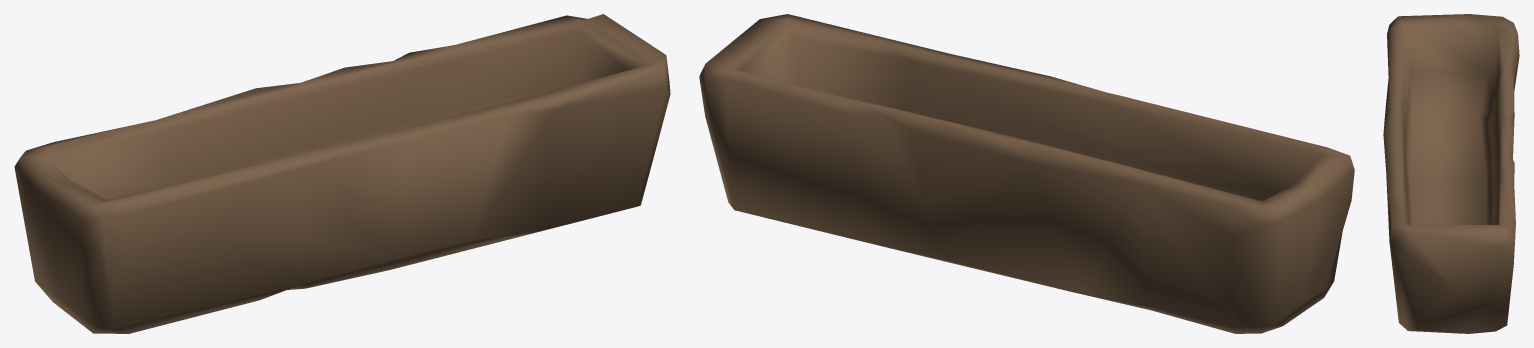
The model's file is rpgpp_lt_trough_01 -col.glb.
3 renders of one model, left to right at view 1: azimuth 30°, elevation 25°; view 2: azimuth 150°, elevation 25°; view 3: azimuth 270°, elevation 25°, orthographic. The views are drawn at different scales.
Visible parts, largest first — view 1: rpgpp_lt_trough_01 -col; view 2: rpgpp_lt_trough_01 -col; view 3: rpgpp_lt_trough_01 -col.
Part boxes in pixels (<box>): rpgpp_lt_trough_01 -col: <box>14,14,670,333</box>; rpgpp_lt_trough_01 -col: <box>699,14,1354,333</box>; rpgpp_lt_trough_01 -col: <box>1383,14,1519,333</box>.
Size of the model in its own units: 2.06 by 0.4787 by 0.5302.
Materials: 1 (1 with a texture image).
